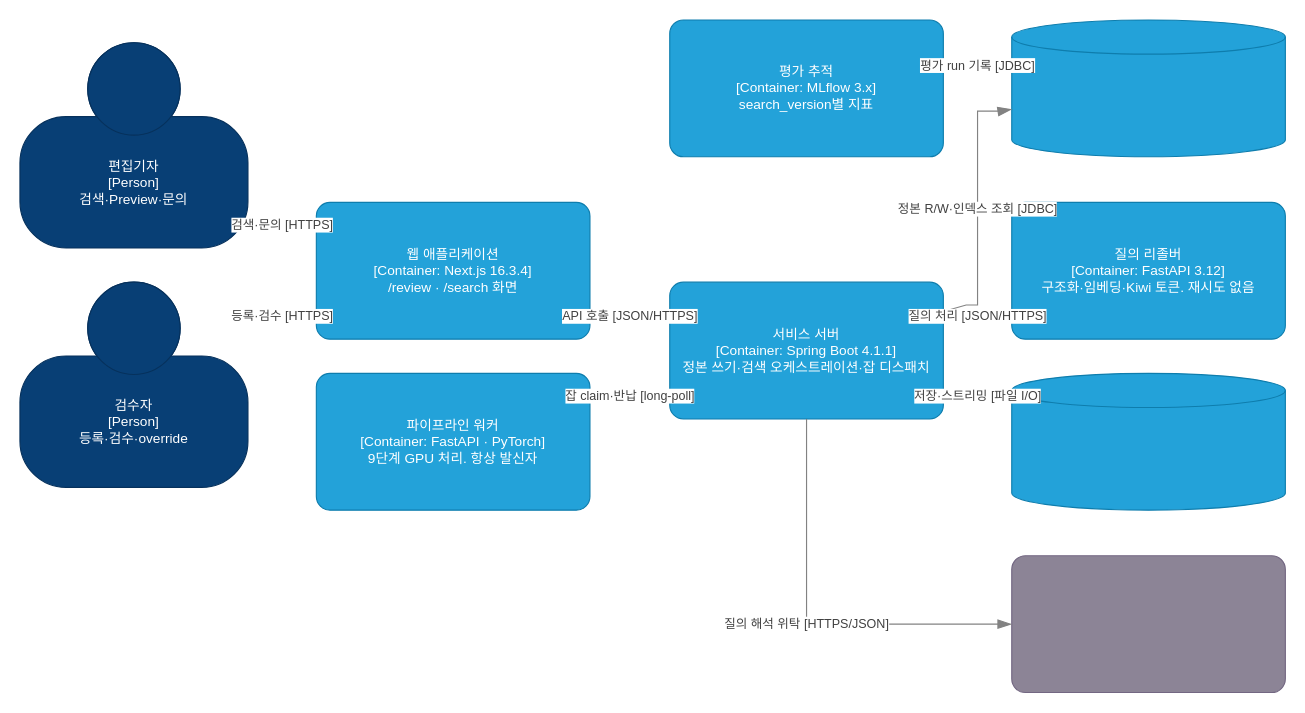
Image size: 1305x713. Some labels were removed from this diagram. The centre of each missing label's shape, as x and y in pixels:
GMS [Software System] Query Resolver 프로파일: [1148,624]
에셋 스토어 [Container: 파일시스템] 원본·keyframe·thumbnail: [1148,441]
정본 및 검색 인덱스 [Container: PostgreSQL 18.6] pg_search · pgvector: [1148,88]
